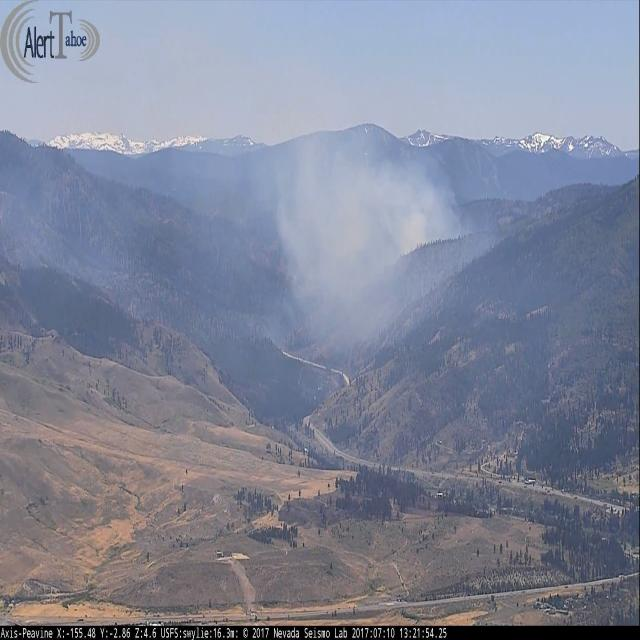smoke: (277, 128, 485, 352)
